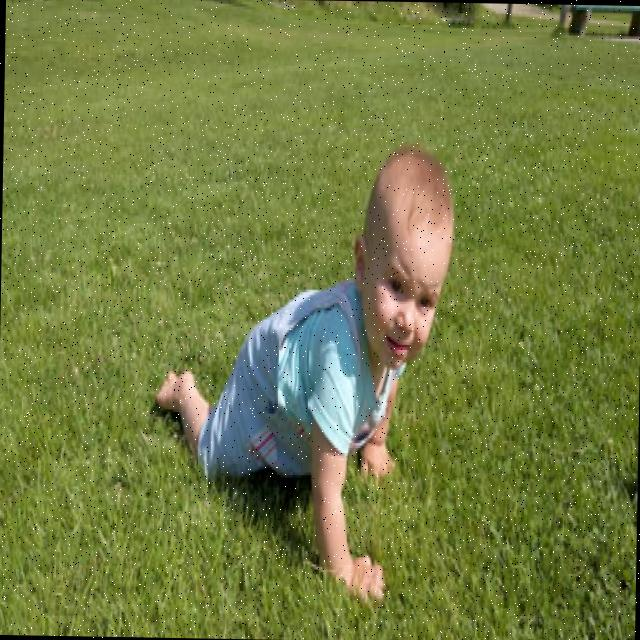Person: (152, 142, 454, 605)
